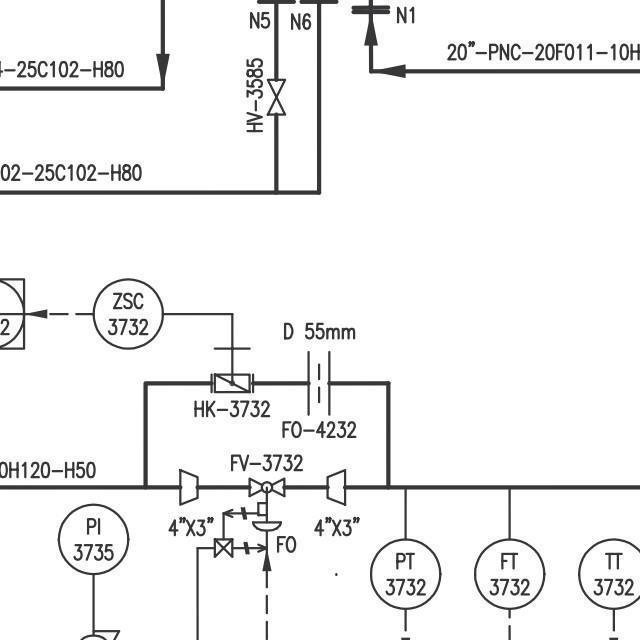BV: (210, 339, 256, 399)
CBV: (209, 477, 289, 572)
GV: (263, 75, 285, 118)
O: (303, 349, 335, 416)
SP: (322, 462, 352, 508), (175, 463, 201, 506)
